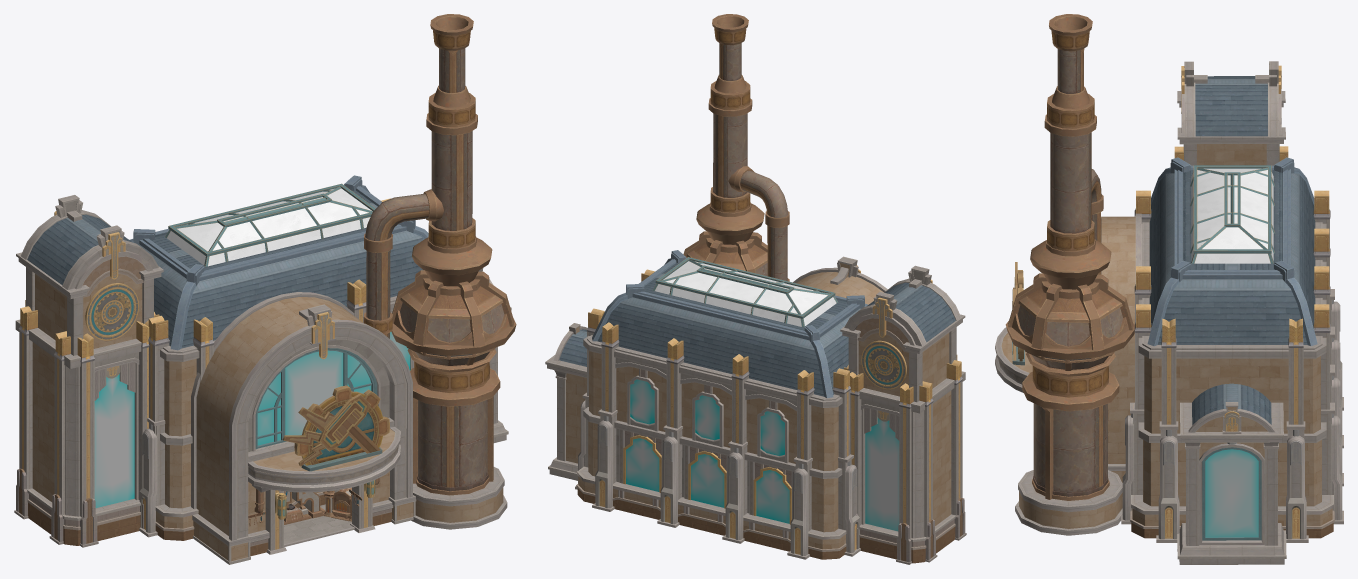
The model's file is Homeworld_Exterior_Fd_Build_ZhuchengJz_03_Lod0.fbx.
3 views of the same model, side by side, from view 1: azimuth 30°, elevation 25°; view 2: azimuth 150°, elevation 25°; view 3: azimuth 270°, elevation 25° (orthographic). The views are drawn at different scales.
Visible parts, largest first — view 1: Homeworld_Exterior_Fd_Build_ZhuchengJz_03_Lod0; view 2: Homeworld_Exterior_Fd_Build_ZhuchengJz_03_Lod0; view 3: Homeworld_Exterior_Fd_Build_ZhuchengJz_03_Lod0.
Part boxes in pixels (<box>): Homeworld_Exterior_Fd_Build_ZhuchengJz_03_Lod0: <box>14,14,516,564</box>; Homeworld_Exterior_Fd_Build_ZhuchengJz_03_Lod0: <box>545,14,966,564</box>; Homeworld_Exterior_Fd_Build_ZhuchengJz_03_Lod0: <box>995,14,1343,564</box>.
Size of what is drawn, in the model's own units: 26.63 by 27.32 by 17.67.
